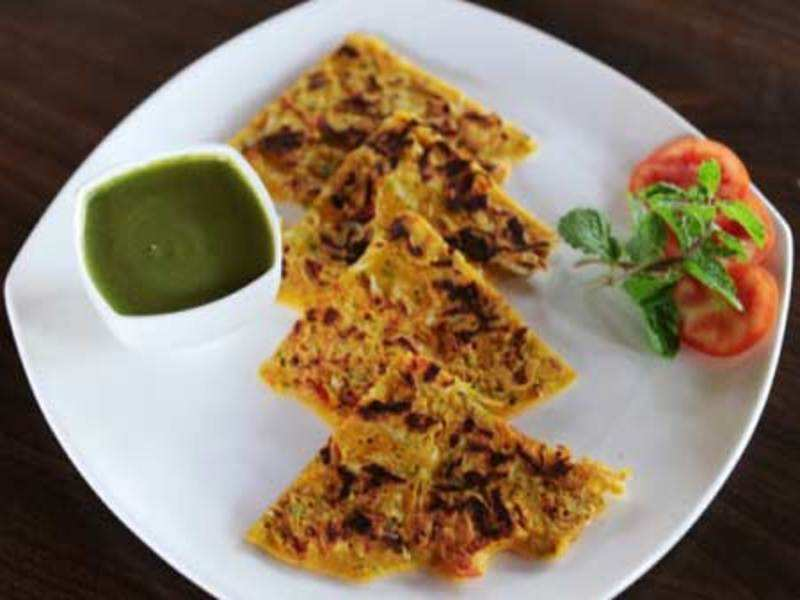aloo_paratha: (238, 32, 620, 600)
